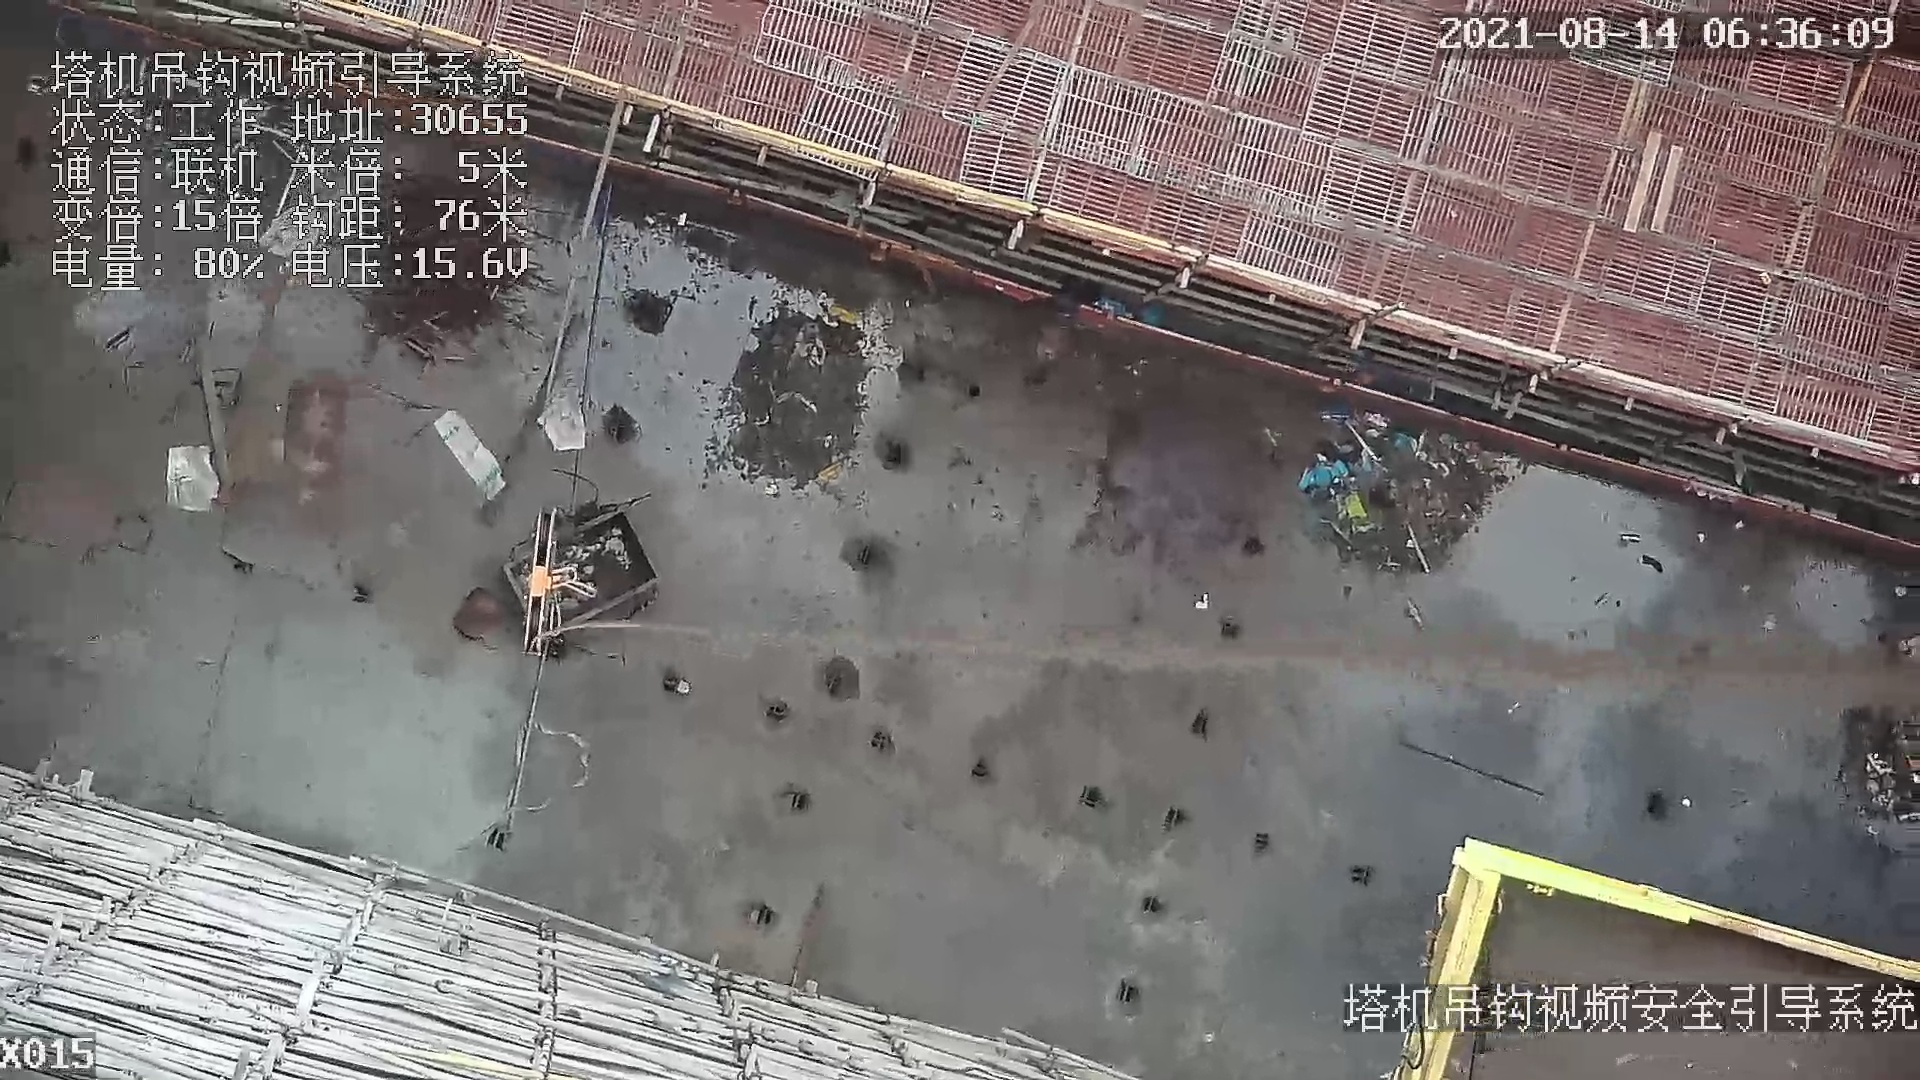hook: (522, 506, 582, 645)
hopper: (524, 506, 673, 653)
